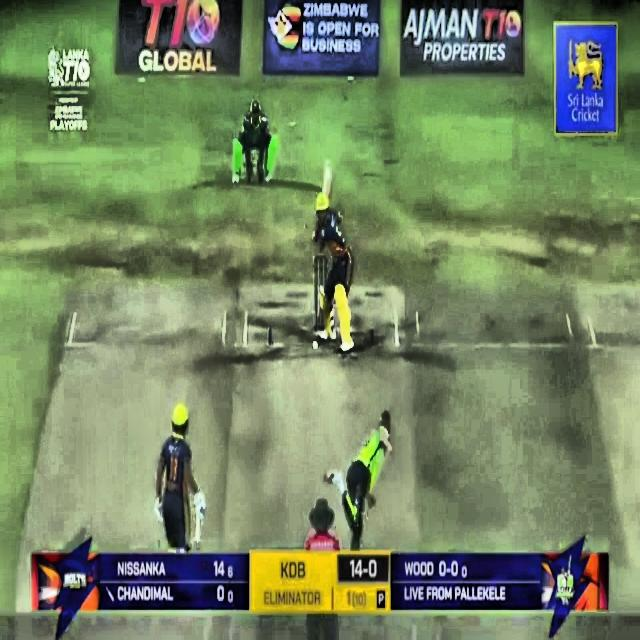Left-stump: (314, 259, 319, 328)
Middle-stump: (321, 313, 324, 328)
